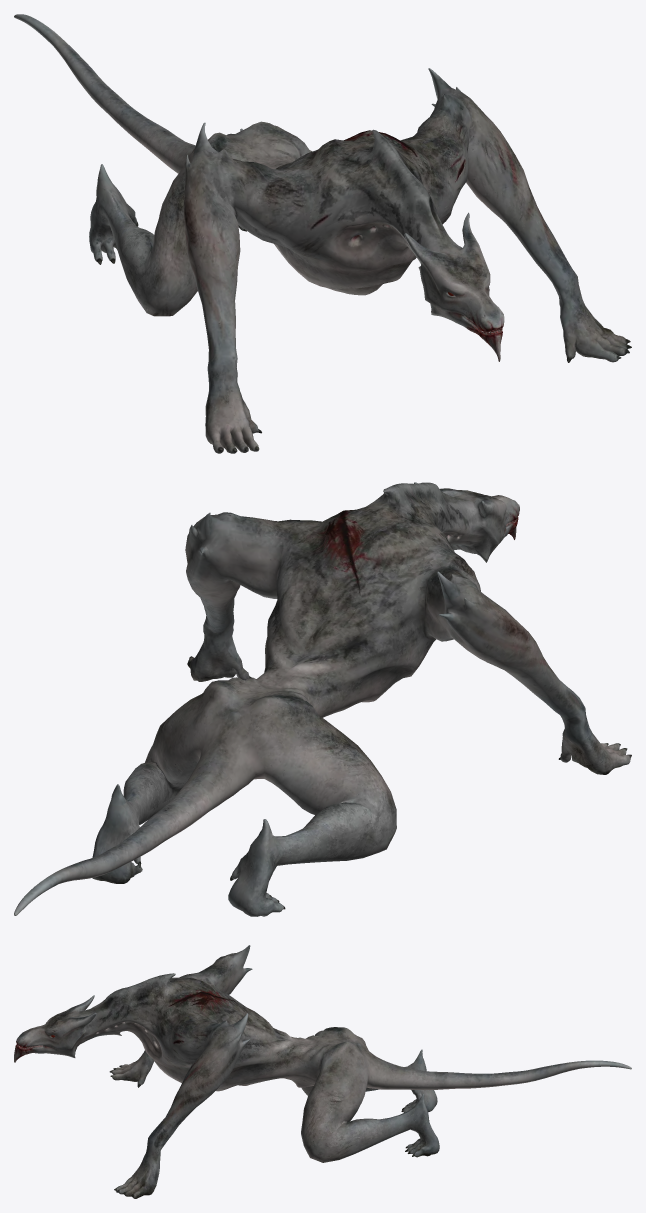
The model's file is ice_creature.glb.
The picture shows the model from 3 angles, top to bottom: view 1: azimuth 30°, elevation 25°; view 2: azimuth 150°, elevation 25°; view 3: azimuth 270°, elevation 25°; orthographic projection. The views are drawn at different scales.
Parts seen in each view (by area): view 1: Creature_low_Creature_Shdr_0; view 2: Creature_low_Creature_Shdr_0; view 3: Creature_low_Creature_Shdr_0.
Boxes of the visible parts, x1,y1,x2,y2 form: Creature_low_Creature_Shdr_0: (14, 14, 631, 453); Creature_low_Creature_Shdr_0: (14, 482, 631, 916); Creature_low_Creature_Shdr_0: (14, 945, 631, 1198).
Size of what is drawn, in the model's own units: 4.22 by 2.39 by 8.43.
Materials: 5 (5 with a texture image).
